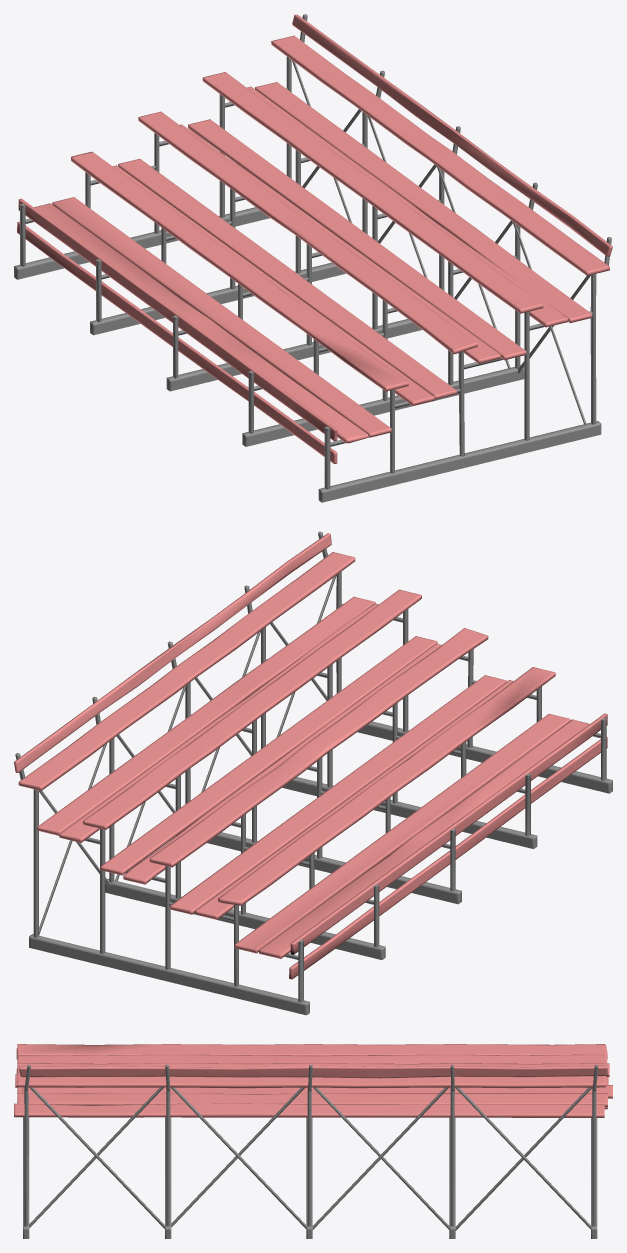
The model's file is Woods_Field_Bleachers_02.gltf.
The picture shows the model from 3 angles, top to bottom: view 1: azimuth 30°, elevation 25°; view 2: azimuth 150°, elevation 25°; view 3: azimuth 270°, elevation 25°; orthographic projection. The views are drawn at different scales.
Visible parts, largest first — view 1: Woods_Field_Bleachers_02; view 2: Woods_Field_Bleachers_02; view 3: Woods_Field_Bleachers_02.
Boxes of the visible parts, x1,y1,x2,y2 form: Woods_Field_Bleachers_02: (14,14,612,502); Woods_Field_Bleachers_02: (14,531,612,1015); Woods_Field_Bleachers_02: (14,1044,612,1238).
Size of the model in its own units: 7.84 by 4.91 by 14.92.
